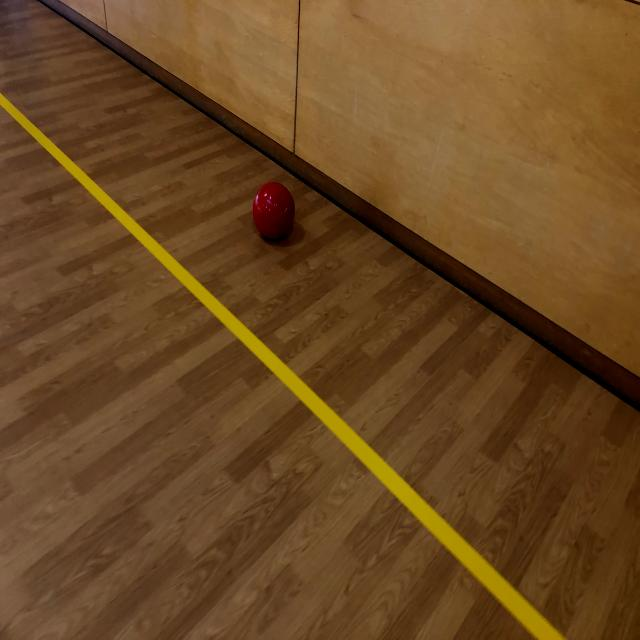red_ball: (252, 184, 296, 242)
